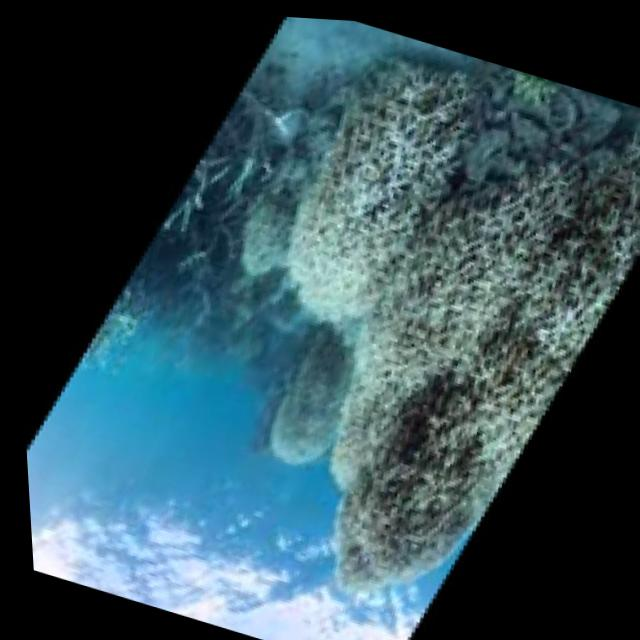Dead Coral: (81, 46, 309, 388), (302, 351, 558, 636)
